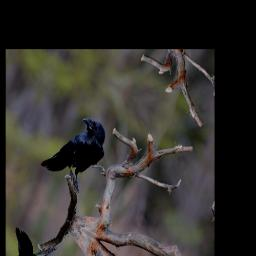Crow: (38, 99, 114, 198)
